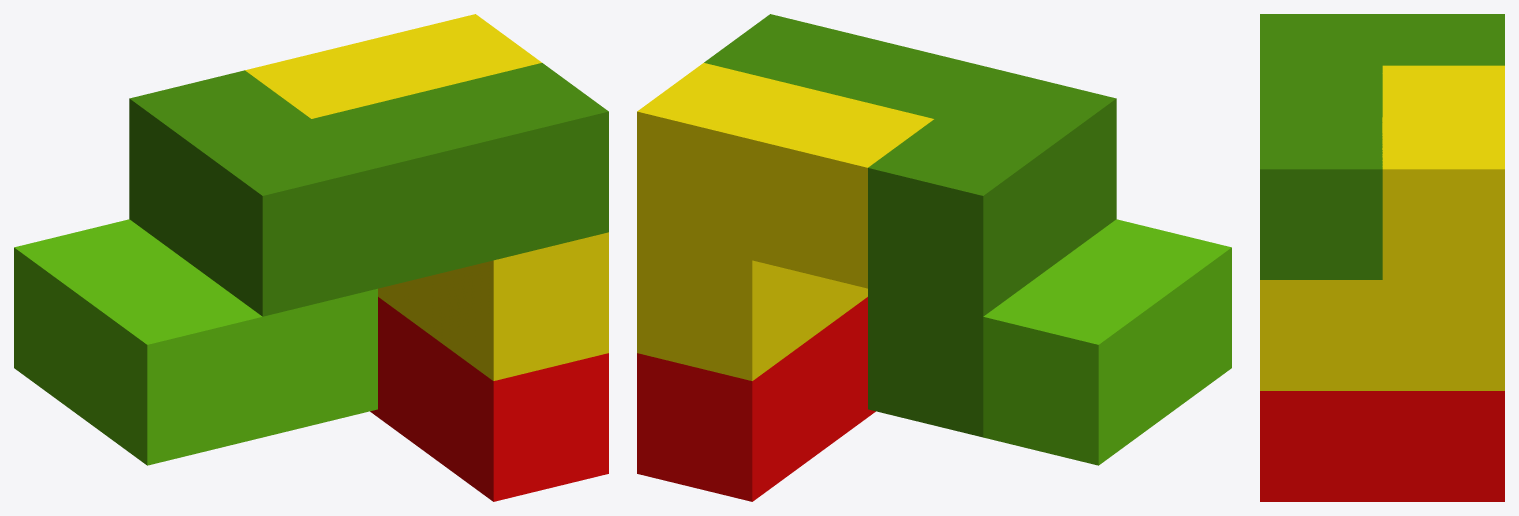
3 renders of one model, left to right at view 1: azimuth 30°, elevation 25°; view 2: azimuth 150°, elevation 25°; view 3: azimuth 270°, elevation 25°, orthographic. The views are drawn at different scales.
Parts seen in each view (by area): view 1: mergedBlocks(Clone); view 2: mergedBlocks(Clone); view 3: mergedBlocks(Clone).
Part boxes in pixels (box(x1,y1,x2,y2)): mergedBlocks(Clone): box(14, 14, 608, 501); mergedBlocks(Clone): box(637, 14, 1231, 501); mergedBlocks(Clone): box(1260, 14, 1504, 501).
Bounding box in the file's own units: 4 × 3 × 2.
Materials: 4 (4 with a texture image).
